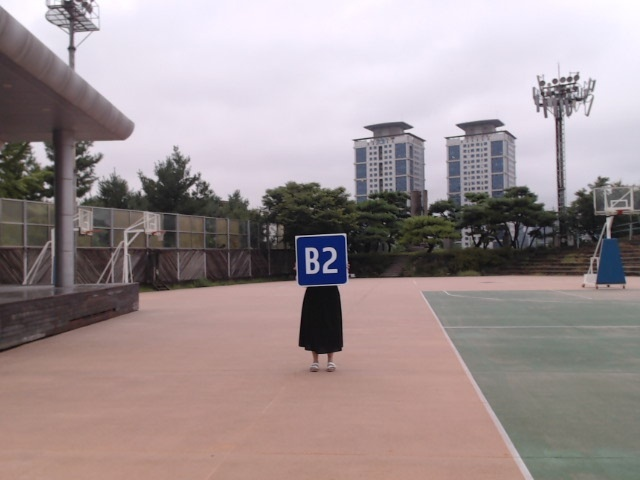delivery_b2: (296, 234, 348, 286)
